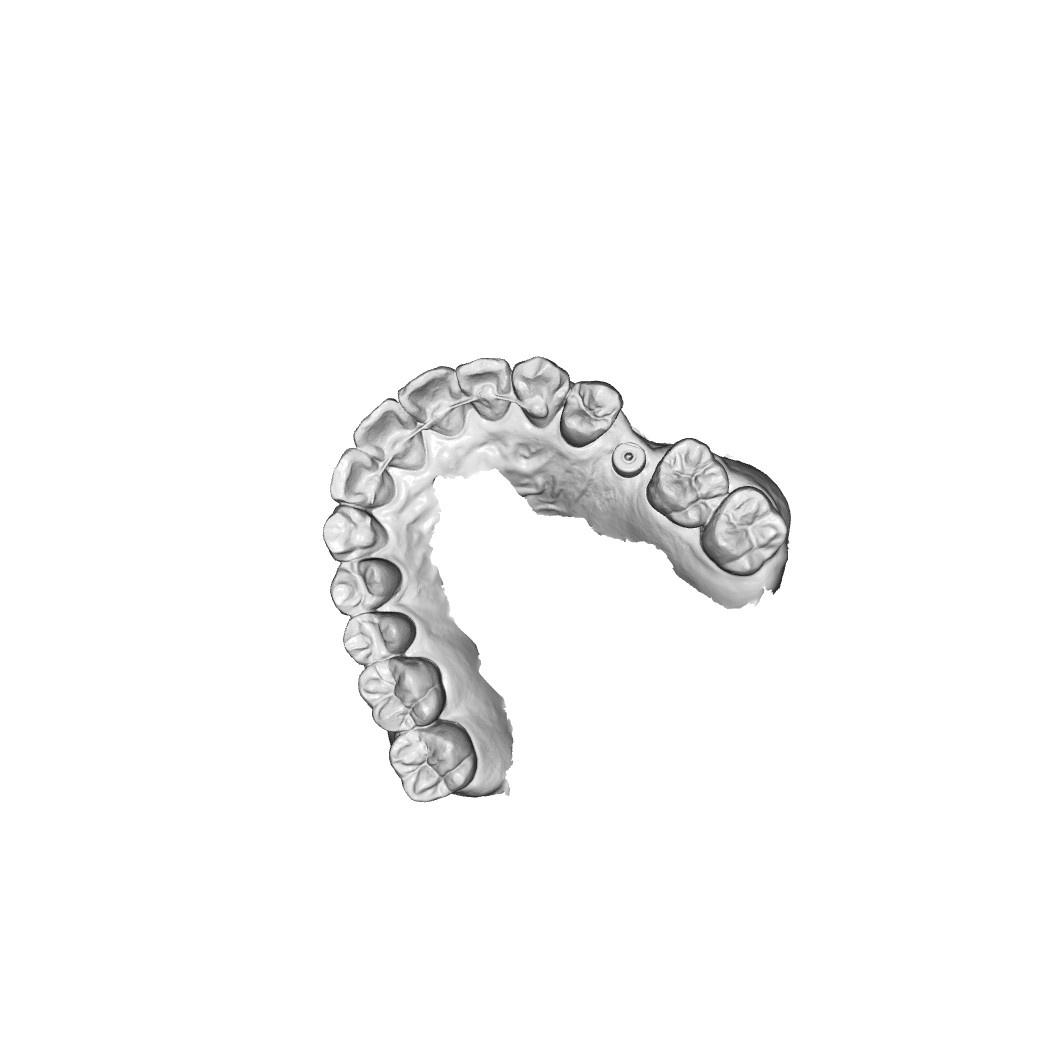canine: (510, 350, 570, 428), (323, 504, 394, 563)
implant: (609, 436, 649, 479)
incisor: (352, 398, 427, 471), (396, 366, 466, 439), (328, 446, 397, 507), (460, 359, 509, 424)
molar: (702, 486, 786, 578), (647, 437, 728, 530), (388, 721, 476, 805), (355, 656, 447, 731)
premolar: (559, 379, 625, 448), (326, 557, 403, 616), (338, 611, 415, 666)
